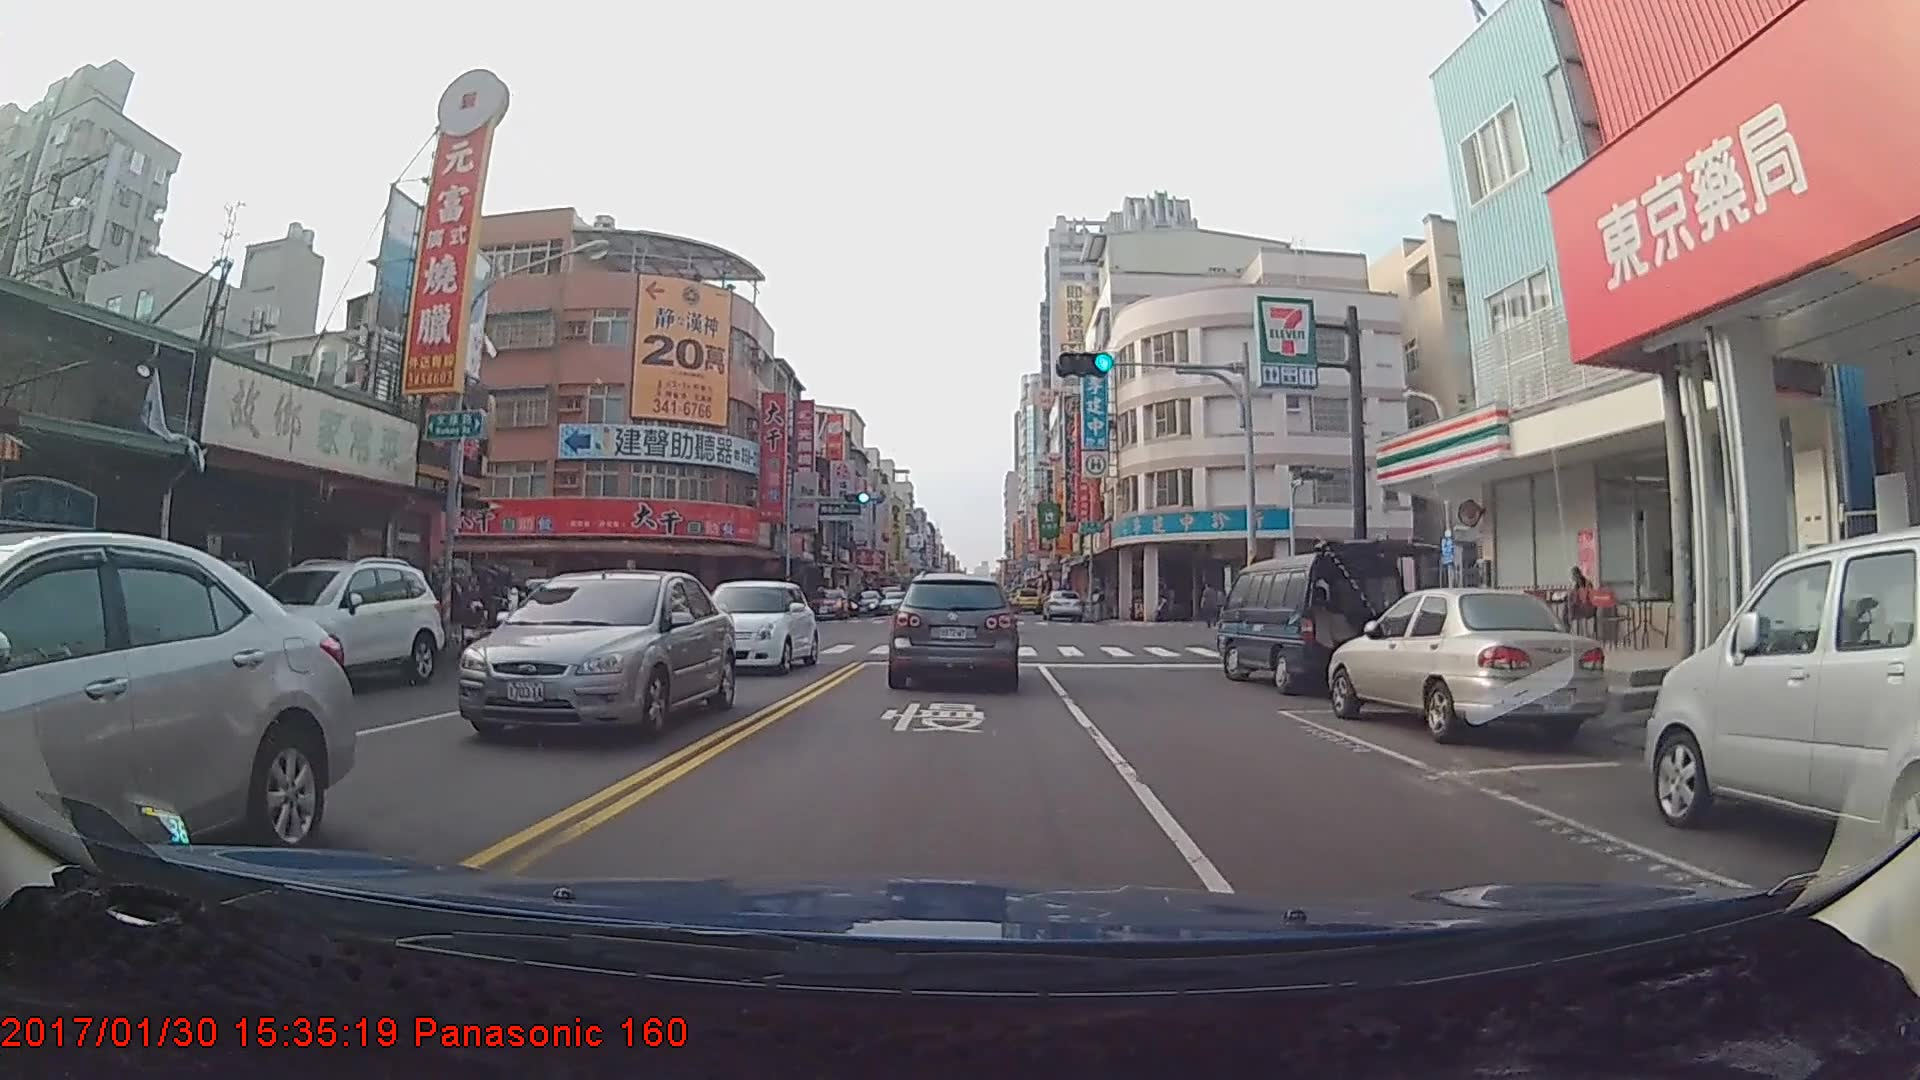pedestrian: (1201, 584, 1222, 632)
vehicle: (0, 534, 355, 933), (1645, 534, 1920, 854), (455, 568, 735, 741), (1328, 583, 1594, 744), (228, 551, 445, 695), (1216, 554, 1410, 693), (888, 570, 1020, 691), (692, 579, 817, 675), (1042, 587, 1083, 623), (809, 585, 848, 620), (848, 591, 884, 615), (1011, 587, 1039, 612)
